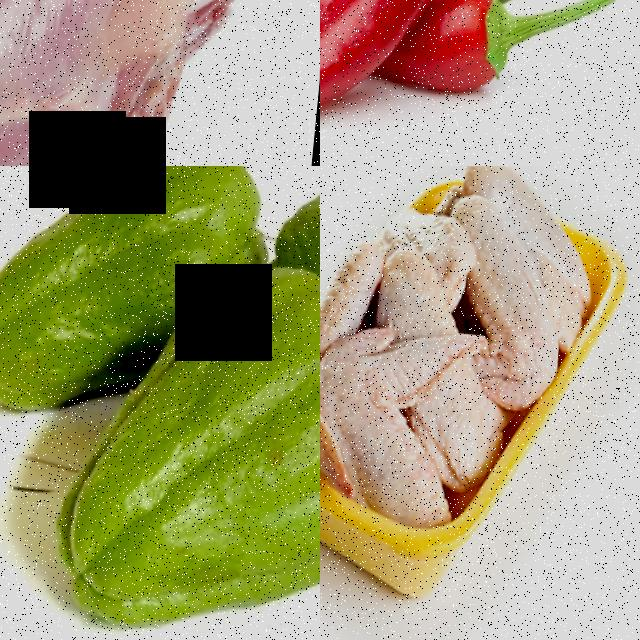chayote: (72, 334, 320, 640), (0, 166, 238, 302)
chicken thigh: (0, 0, 275, 166)
chicken wing: (320, 300, 490, 519)
chilli: (320, 0, 492, 148)
